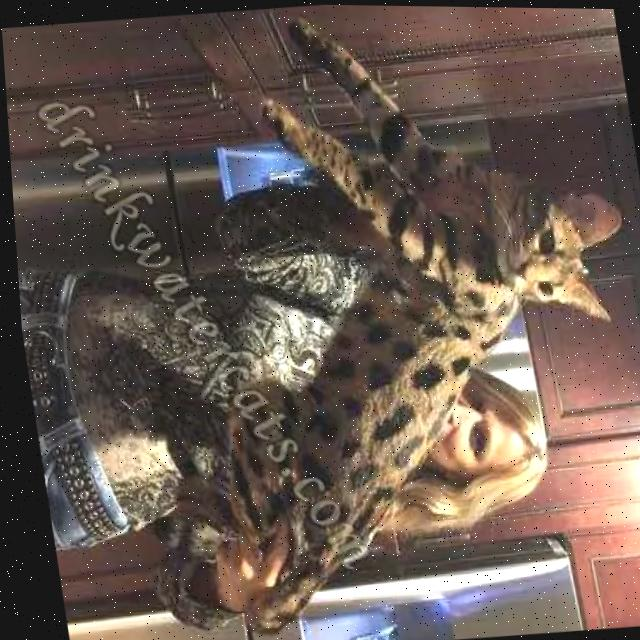Savannah: (92, 1, 640, 640)
